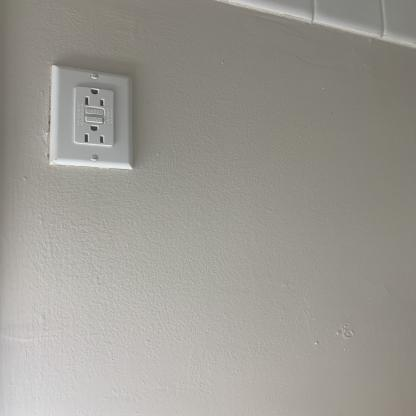OUTLET: (48, 70, 134, 168)
